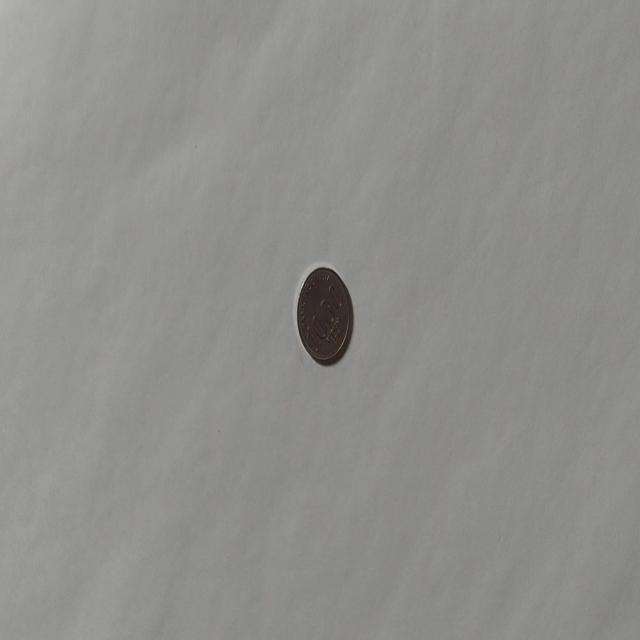seribu rupiah koin: (295, 263, 353, 365)
